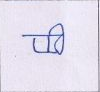i_matra: (49, 22, 67, 53)
